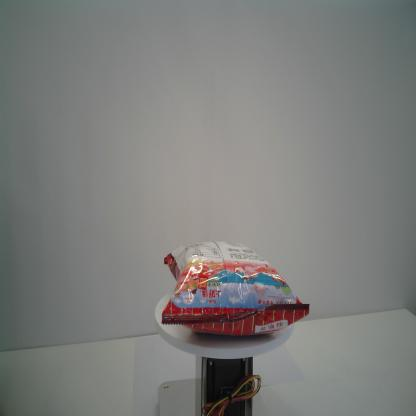Puffed Food: (160, 240, 310, 338)
